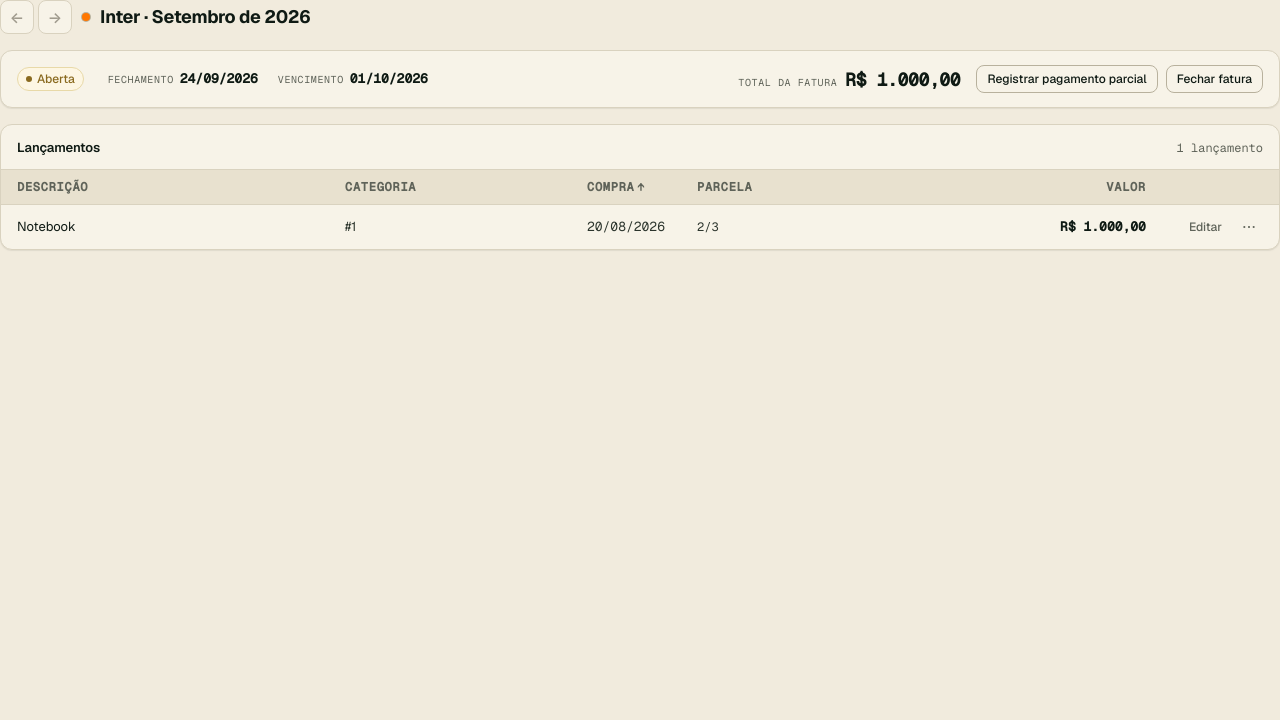
Test: FaturaDetalhe — aviso do adiantamento › conta as parcelas que o main moveu, não as pedidas
Click the button named "Mais ações" at (1249, 227), box [1235, 213, 1263, 241]
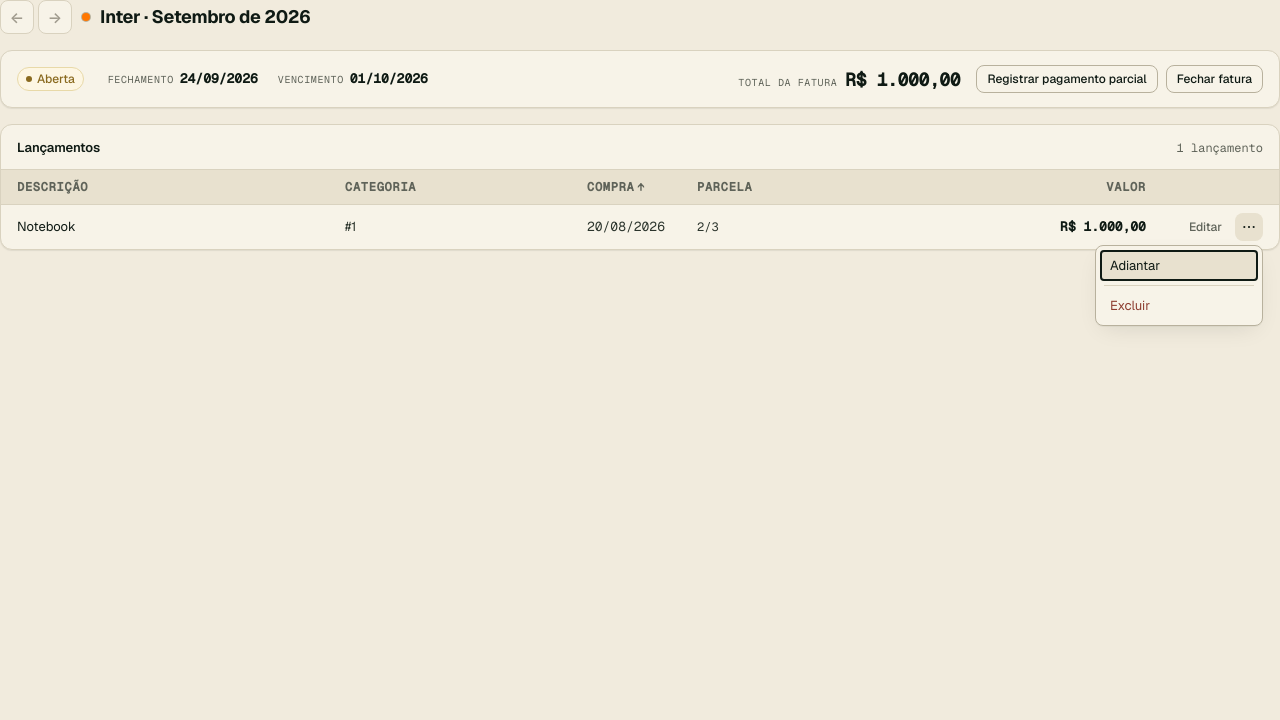
Click the menu item "Adiantar" at (1179, 266), box [1100, 250, 1258, 281]
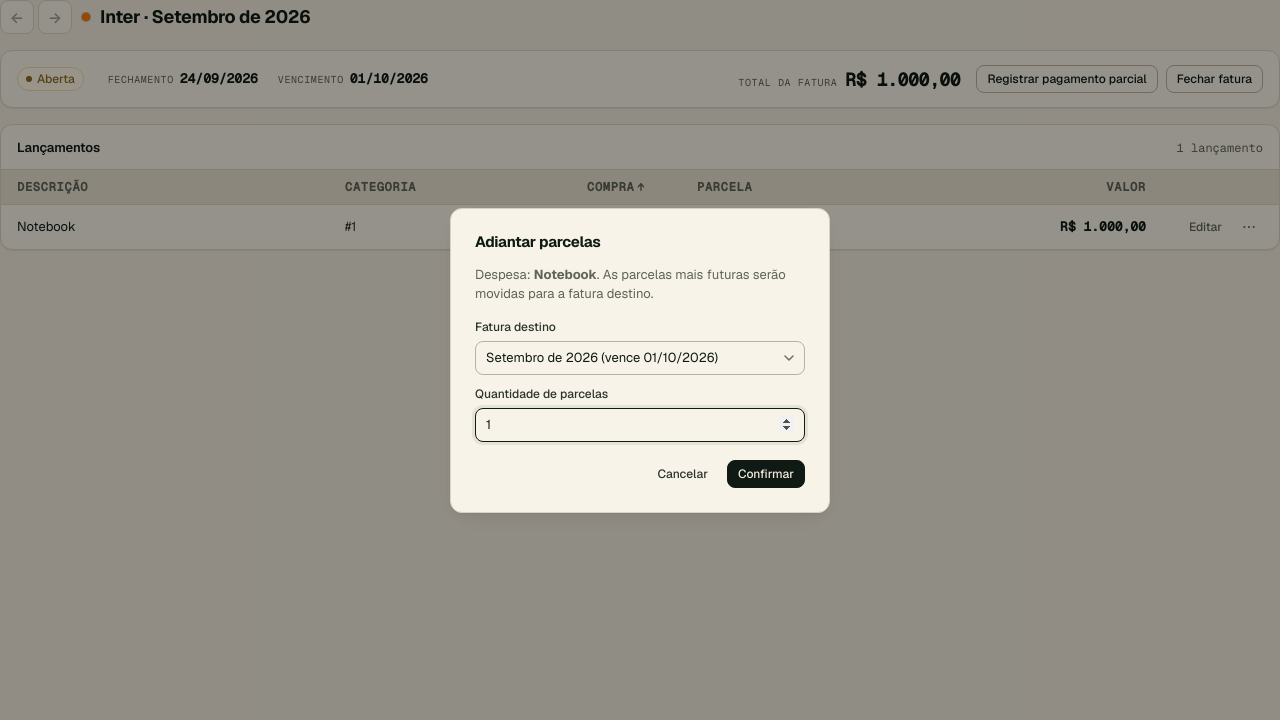
Now the dropdown labelled "Fatura destino" is enabled, box [475, 340, 805, 374]
Replace the text in the number field labelled "Quantidade de parcelas" with "3" at (640, 424), box [475, 408, 805, 442]
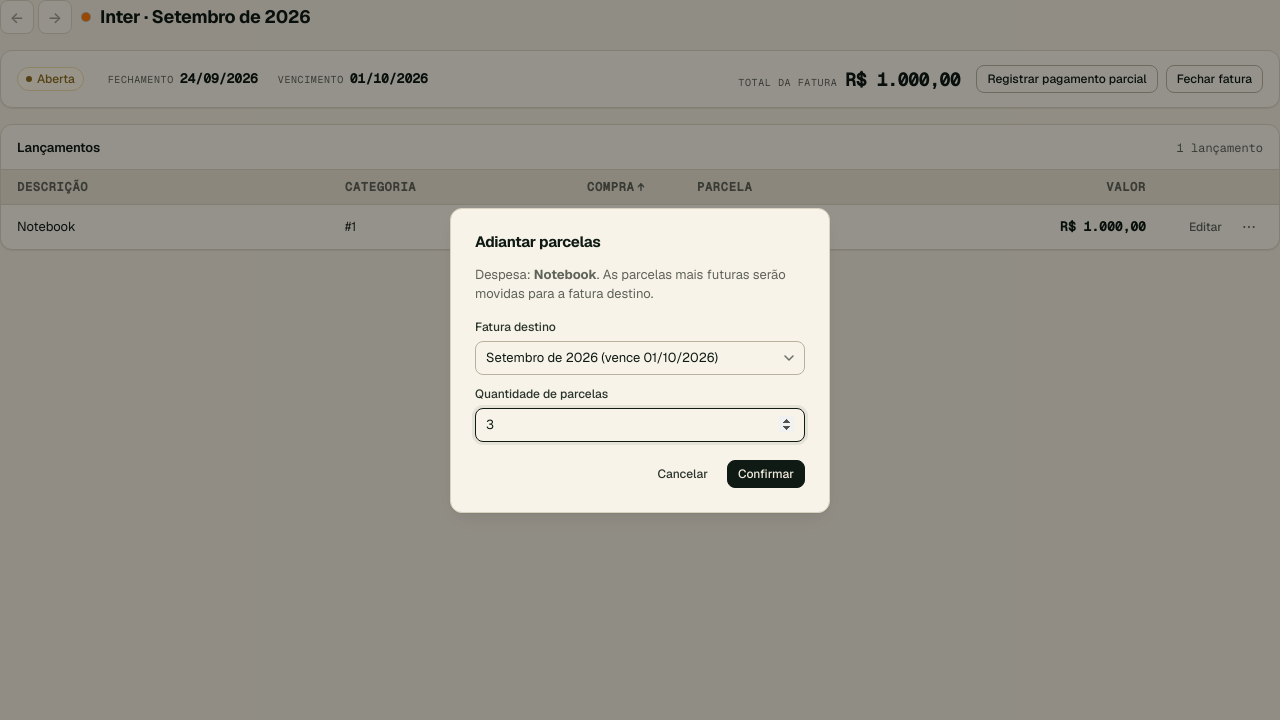
Click the button "Confirmar" at (766, 474), box [727, 460, 805, 488]
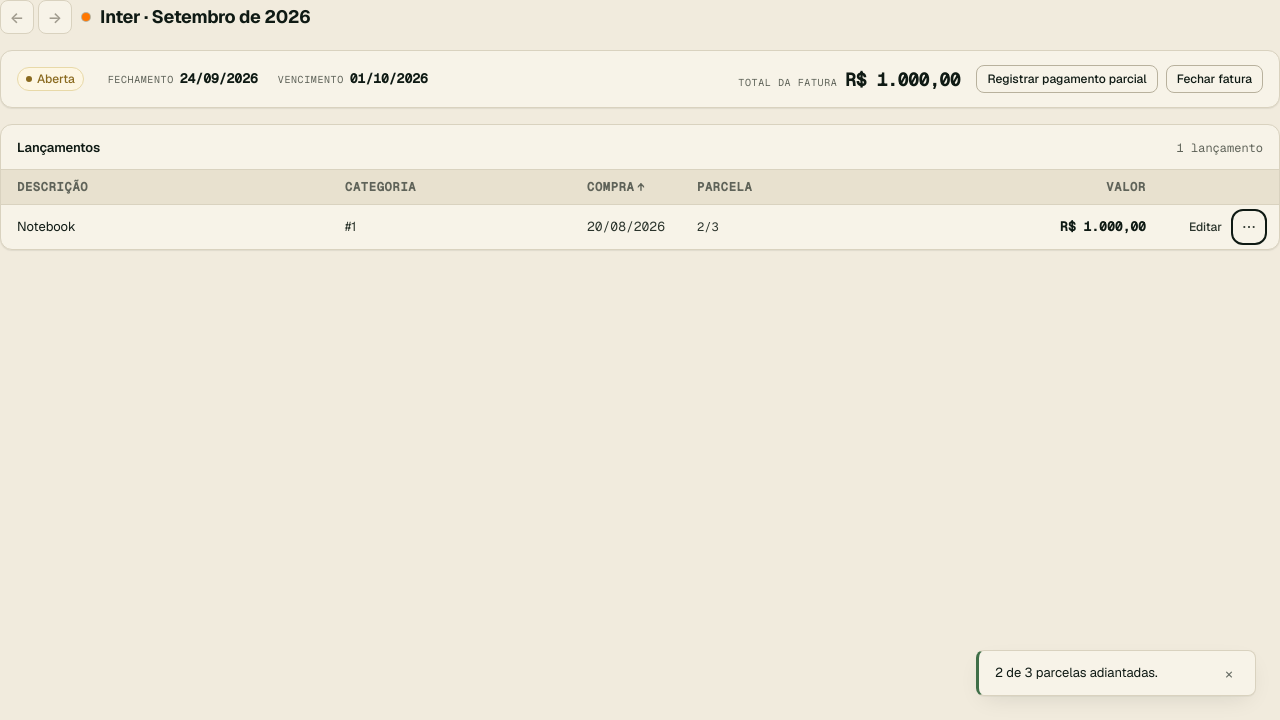
Now the text "2 de 3 parcelas adiantadas." is shown, box [995, 664, 1158, 681]
